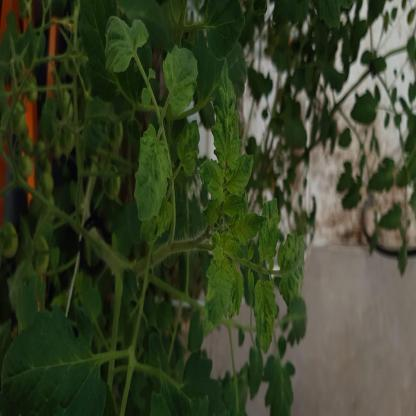T_L_H: (3, 309, 107, 416)
T_L_R: (136, 126, 172, 222), (212, 61, 242, 171), (205, 247, 236, 336), (164, 47, 198, 116), (278, 233, 306, 308), (255, 281, 277, 354)
